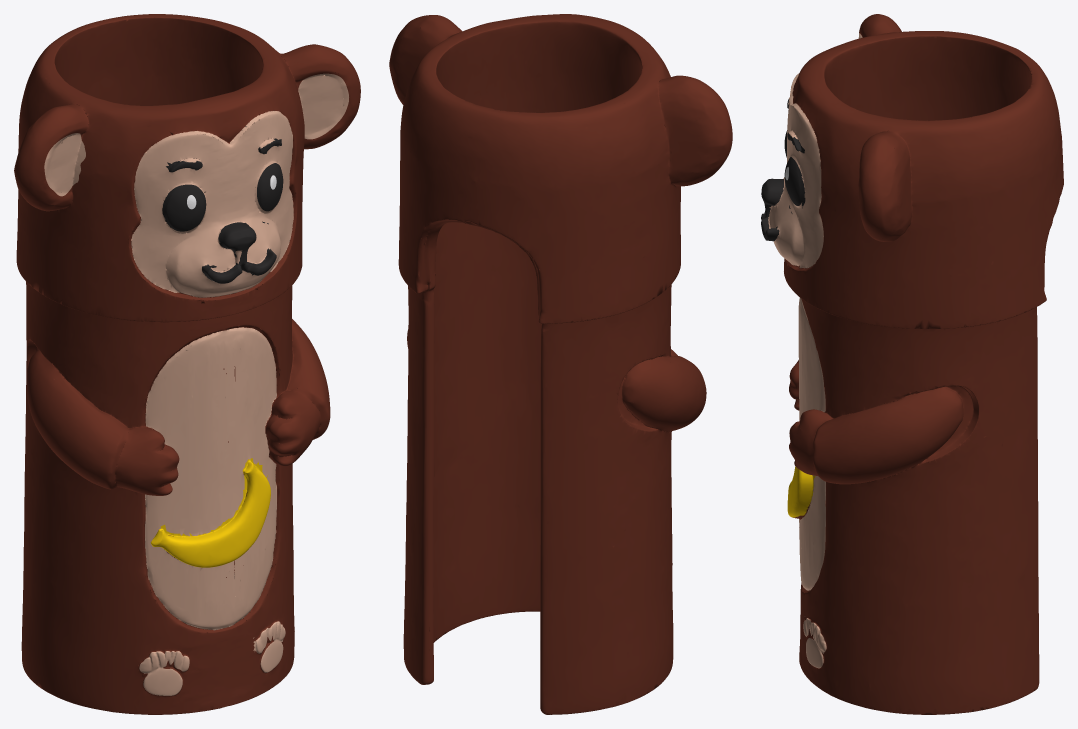
File: macacoscopio.glb
3 views of the same model, side by side, from view 1: azimuth 30°, elevation 25°; view 2: azimuth 150°, elevation 25°; view 3: azimuth 270°, elevation 25° (orthographic). The views are drawn at different scales.
Visible parts, largest first — view 1: macacoscopio; view 2: macacoscopio; view 3: macacoscopio.
Boxes of the visible parts, x1,y1,x2,y2 form: macacoscopio: [14, 14, 360, 714]; macacoscopio: [389, 14, 732, 714]; macacoscopio: [761, 14, 1063, 714].
Size of the model in its own units: 1.02 by 1.71 by 0.8006.
